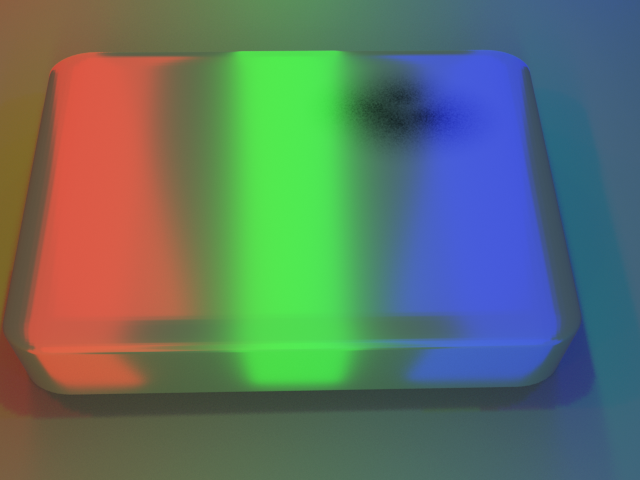stain: (300, 38, 531, 161)
